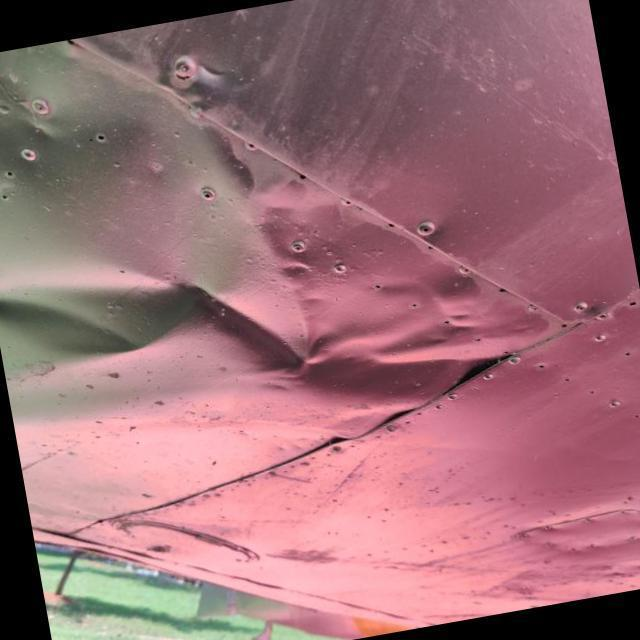Dent: (0, 73, 573, 510)
